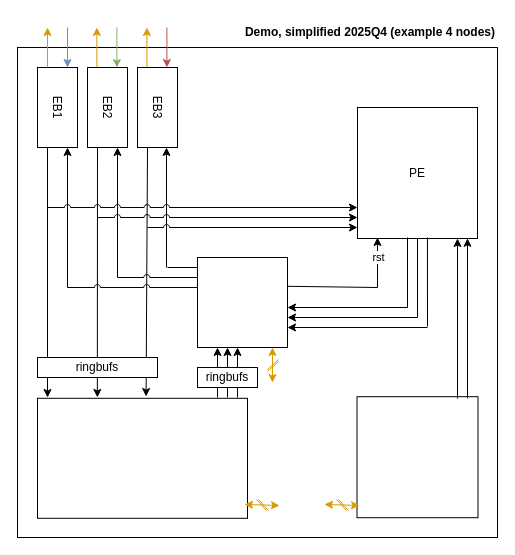
Some shapes in this 515 by 555 pixel diagram are drawn without their labels. Here are the shapes that lost their labels. From the top down, the centre of each, then its label:
At (x=242, y=302): "programmable mux".
At (x=142, y=457): "Management Unit (RISC-V / VexRiscV)".
At (x=417, y=457): "PE config".
